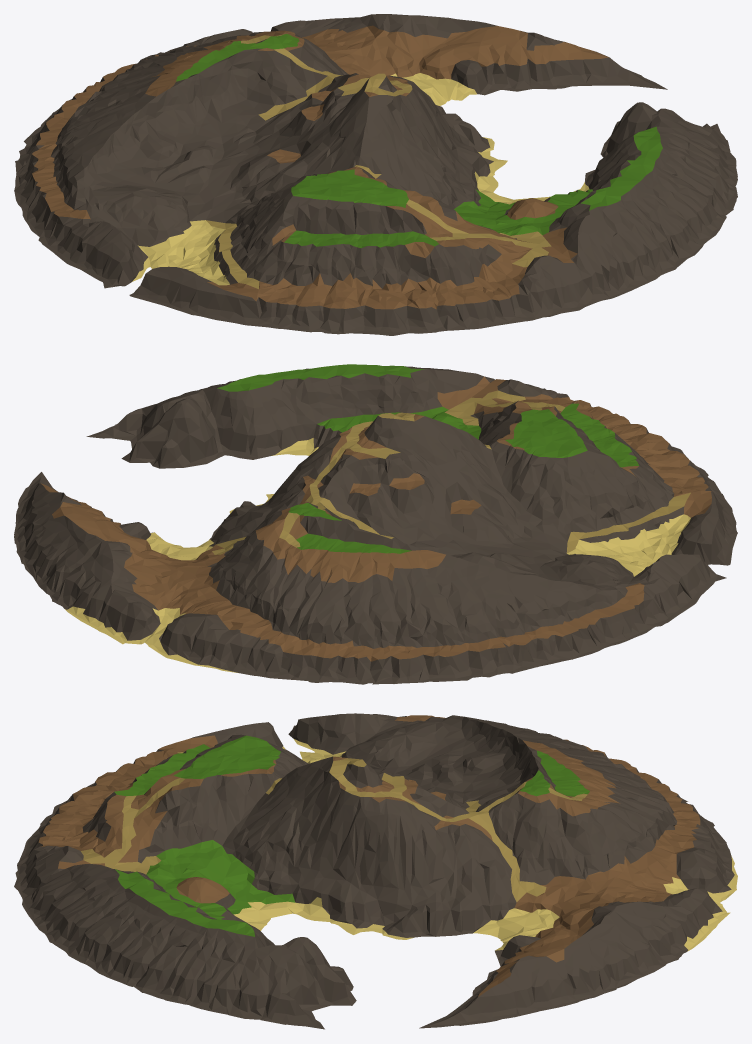
The model's file is RoundIsland_Export.fbx.
3 views of the same model, one above another, from view 1: azimuth 30°, elevation 25°; view 2: azimuth 150°, elevation 25°; view 3: azimuth 270°, elevation 25° (orthographic).
Parts seen in each view (by area): view 1: Island; view 2: Island; view 3: Island.
Boxes of the visible parts, x1,y1,x2,y2 form: Island: (14,14,737,335); Island: (14,364,737,684); Island: (14,713,737,1029).
Bounding box in the file's own units: 92.91 × 16.04 × 93.11.
